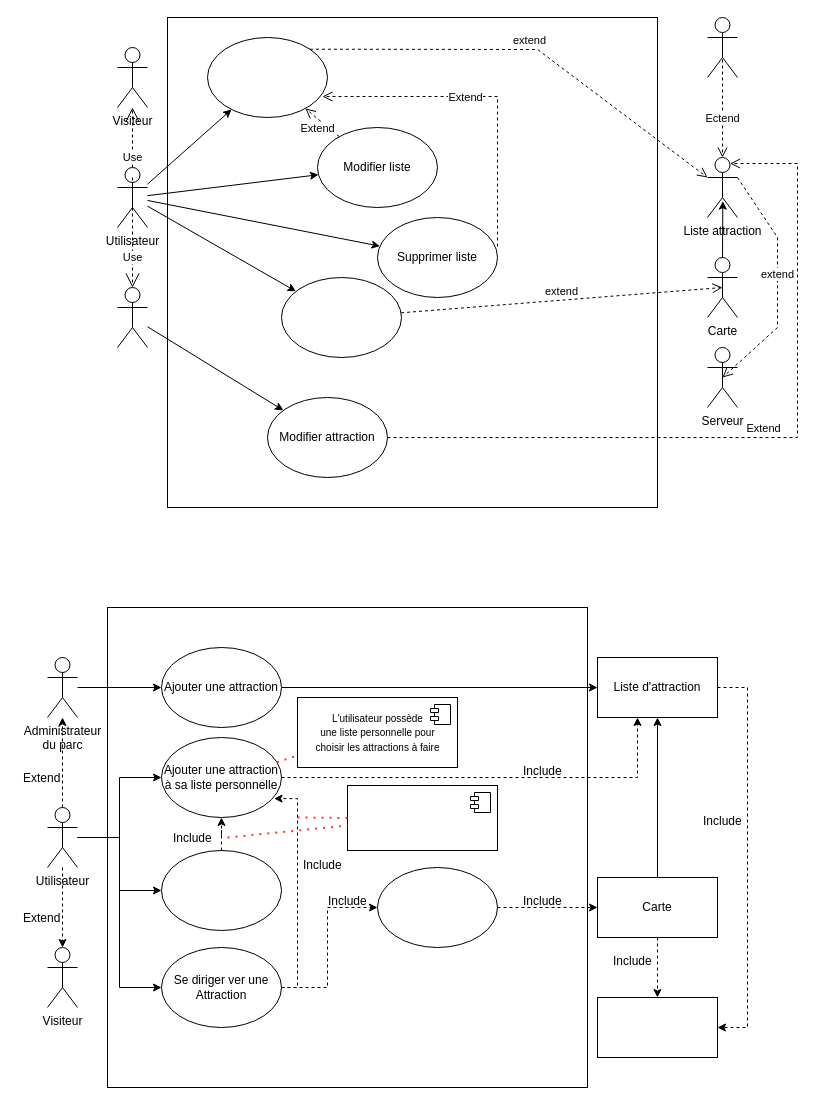
This 825x1105 diagram has some shape labels left out. Here are the shapes that lost their labels. From the top down, the box of each, then its label:
(706, 16, 738, 78): Attraction
(206, 36, 328, 118): Créer Liste
(116, 286, 148, 348): Administrateur
(280, 276, 402, 358): Connaitre Position
(346, 784, 498, 850): Si des attractions on déjà été ajouter à la liste
(160, 850, 282, 930): Supprimer/modifier les attractions de la liste
(376, 866, 498, 948): Connaitre la position de l'attraction
(596, 996, 718, 1058): Serveur/parc
